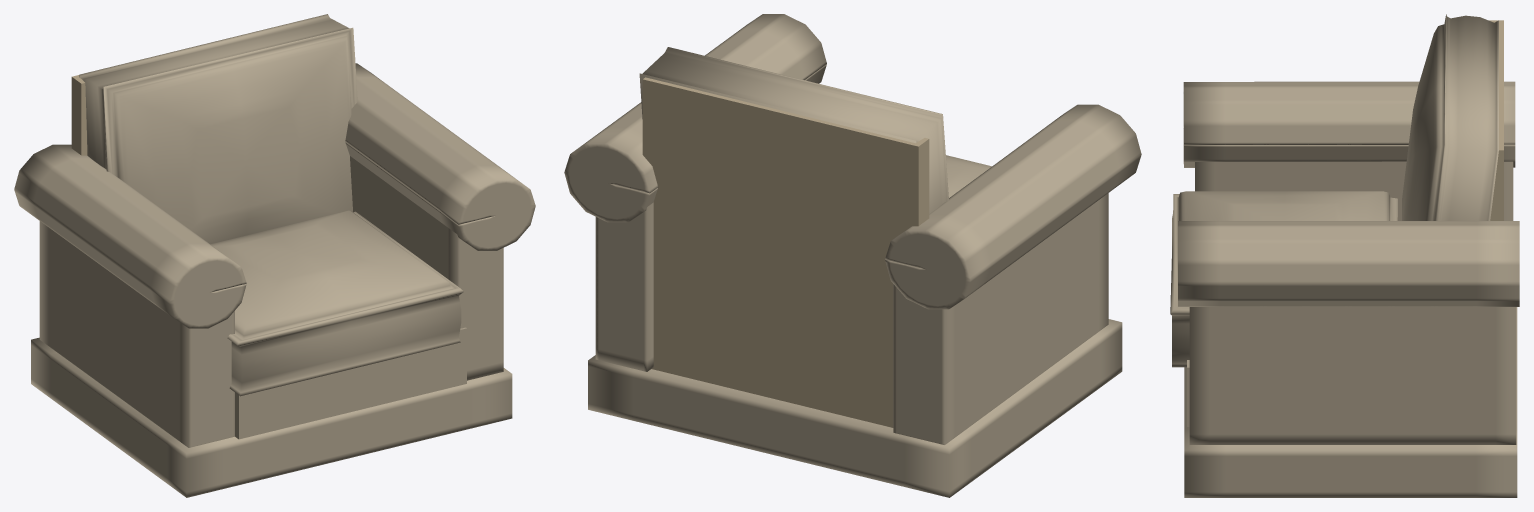
The model's file is chair.obj.
The picture shows the model from 3 angles, left to right: view 1: azimuth 30°, elevation 25°; view 2: azimuth 150°, elevation 25°; view 3: azimuth 270°, elevation 25°; orthographic projection. The views are drawn at different scales.
Parts seen in each view (by area): view 1: cushion5, cushion2, Box6, Box4, Circle1, Circle, Box3, Box5, Box7; view 2: Box7, Box6, Box4, Circle1, Circle, cushion5, Box3, cushion2; view 3: Box3, Circle, Circle1, Box6, cushion5, cushion2, Box4, Box7.
Part boxes in pixels (left/top/right/bottom): cushion5: left=79, top=14, right=357, bottom=244; cushion2: left=210, top=210, right=463, bottom=396; Box6: left=31, top=337, right=512, bottom=497; Box4: left=39, top=221, right=234, bottom=447; Circle1: left=14, top=144, right=246, bottom=328; Circle: left=345, top=63, right=535, bottom=250; Box3: left=350, top=156, right=503, bottom=380; Box5: left=235, top=327, right=466, bottom=439; Box7: left=71, top=75, right=87, bottom=155; Box7: left=642, top=77, right=929, bottom=427; Box6: left=588, top=319, right=1122, bottom=497; Box4: left=893, top=193, right=1108, bottom=444; Circle1: left=885, top=104, right=1141, bottom=309; Circle: left=564, top=14, right=826, bottom=222; cushion5: left=639, top=47, right=948, bottom=213; Box3: left=595, top=202, right=653, bottom=371; cushion2: left=946, top=155, right=991, bottom=197; Box3: left=1189, top=307, right=1516, bottom=444; Circle: left=1178, top=221, right=1519, bottom=306; Circle1: left=1183, top=81, right=1515, bottom=167; Box6: left=1184, top=307, right=1517, bottom=497; cushion5: left=1402, top=14, right=1498, bottom=220; cushion2: left=1170, top=191, right=1397, bottom=367; Box4: left=1195, top=161, right=1513, bottom=220; Box7: left=1489, top=20, right=1503, bottom=220.
Bounding box in the file's own units: 2 × 1.64 × 1.55.
